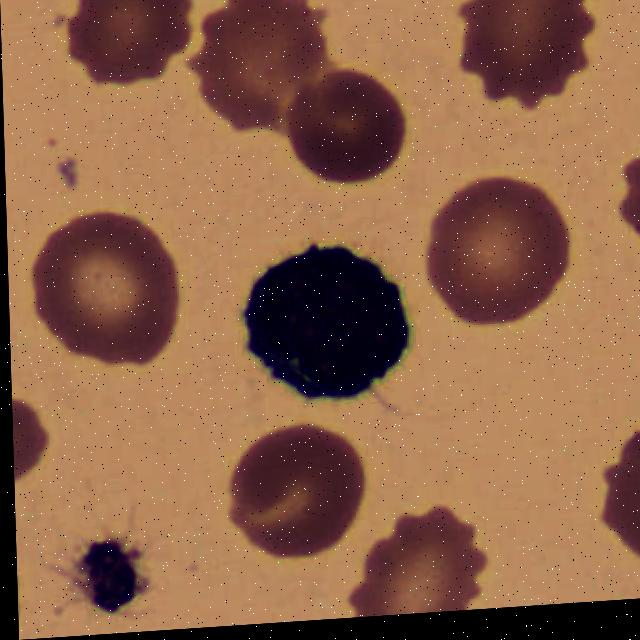lymphocyte: (243, 224, 407, 400)
platelets: (75, 527, 143, 626)
rbc: (26, 210, 182, 371), (186, 0, 346, 137), (430, 175, 565, 327), (340, 503, 502, 618), (222, 422, 360, 554), (461, 0, 595, 115), (286, 69, 402, 183), (67, 0, 207, 84), (600, 421, 640, 577), (12, 399, 54, 475), (610, 150, 640, 245)
